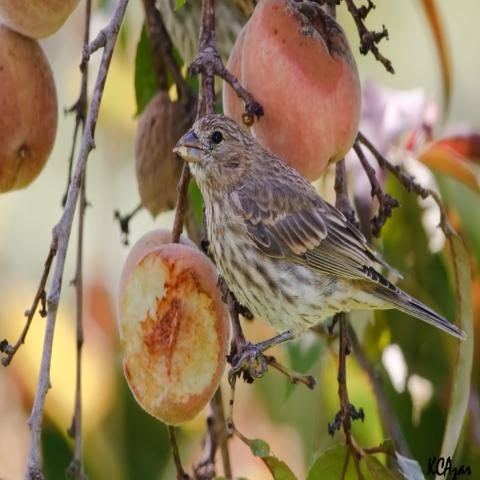bird: (171, 110, 467, 380)
